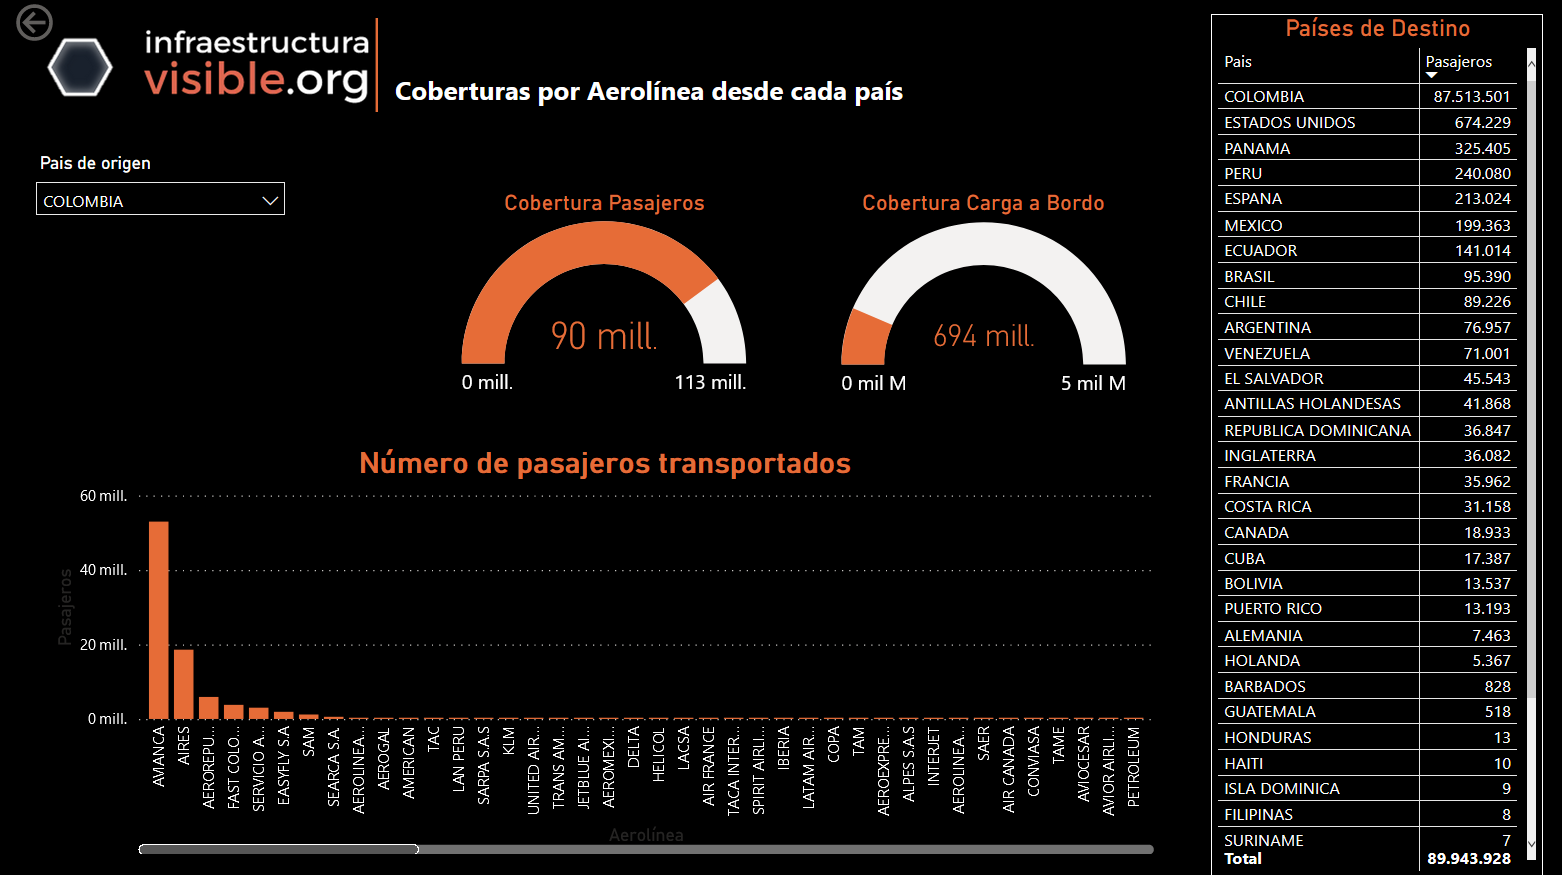

What the dashboard file says about the page in this screenshot:
{"tool":"powerbi","page":{"name":"Página 1","canvas":[1280,720],"ordinal":0},"visuals":[{"type":"slicer","fields":{"Values":["Tabla1.Pais Origen"]},"box":[28.8,20.6,223.9,70],"z":0},{"type":"columnChart","fields":{"Category":["Tabla1.Nombre Empresa"],"Y":["Sum(Tabla1.Pasajeros A Bordo)"]},"box":[50.8,359.8,890,329.6],"z":1000},{"type":"pivotTable","fields":{"Rows":["Tabla1.Pais Destino"],"Values":["Sum(Tabla1.Pasajeros A Bordo)"]},"box":[940.8,35.7,322.7,664.7],"z":2000},{"type":"gauge","fields":{"MaxValue":["Sum(Tabla1.Sillas)"],"Y":["Sum(Tabla1.Pasajeros A Bordo)"]},"box":[337.9,56.3,223.9,149.7],"z":3000},{"type":"gauge","fields":{"Y":["Sum(Tabla1.Carga Ofrecida Kg)"],"MinValue":["Sum(Tabla1.Carga a Bordo Kg)"]},"box":[609.8,57.7,285.7,148.3],"z":4000}]}

Visuals, with their boxes in screenshot pixels (x1, y1, x2, y2), scaled from the page's 1280x720 canvas onto the 1562x875 screenshot:
slicer - Tabla1.Pais Origen: (35,25,308,110)
columnChart - Tabla1.Nombre Empresa x Sum(Tabla1.Pasajeros A Bordo): (62,437,1148,838)
pivotTable - Tabla1.Pais Destino x Sum(Tabla1.Pasajeros A Bordo): (1148,43,1542,851)
gauge - Sum(Tabla1.Sillas) x Sum(Tabla1.Pasajeros A Bordo): (412,68,686,250)
gauge - Sum(Tabla1.Carga Ofrecida Kg) x Sum(Tabla1.Carga a Bordo Kg): (744,70,1093,250)
